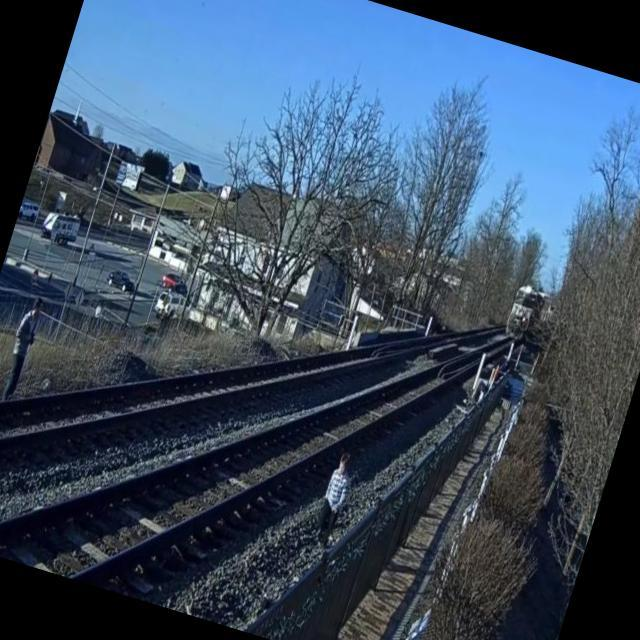person: (304, 446, 364, 564), (0, 290, 49, 404)
